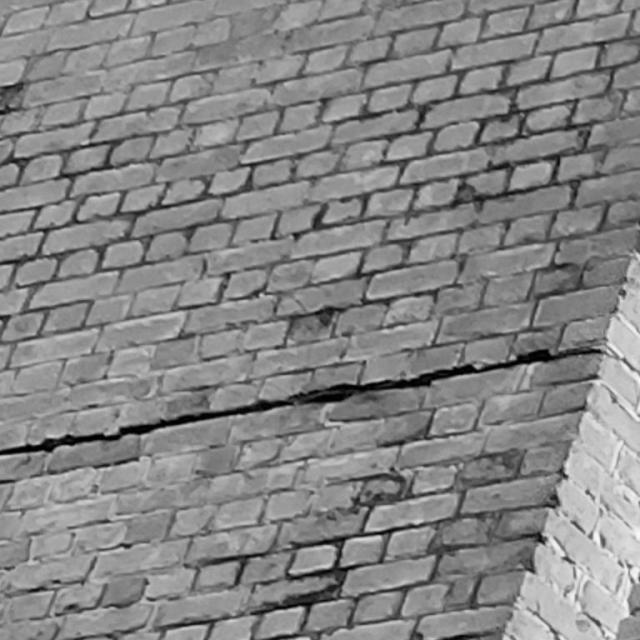crack: (1, 349, 602, 455)
